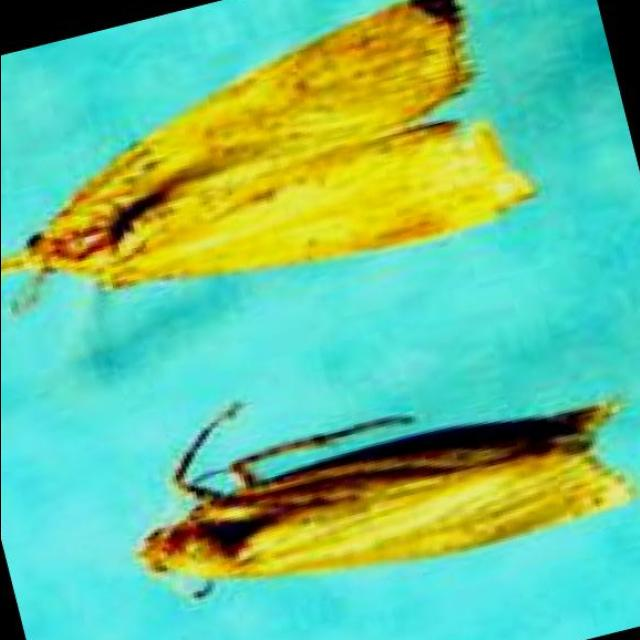stem borer: (0, 0, 531, 289), (140, 402, 637, 580), (173, 394, 247, 501)
